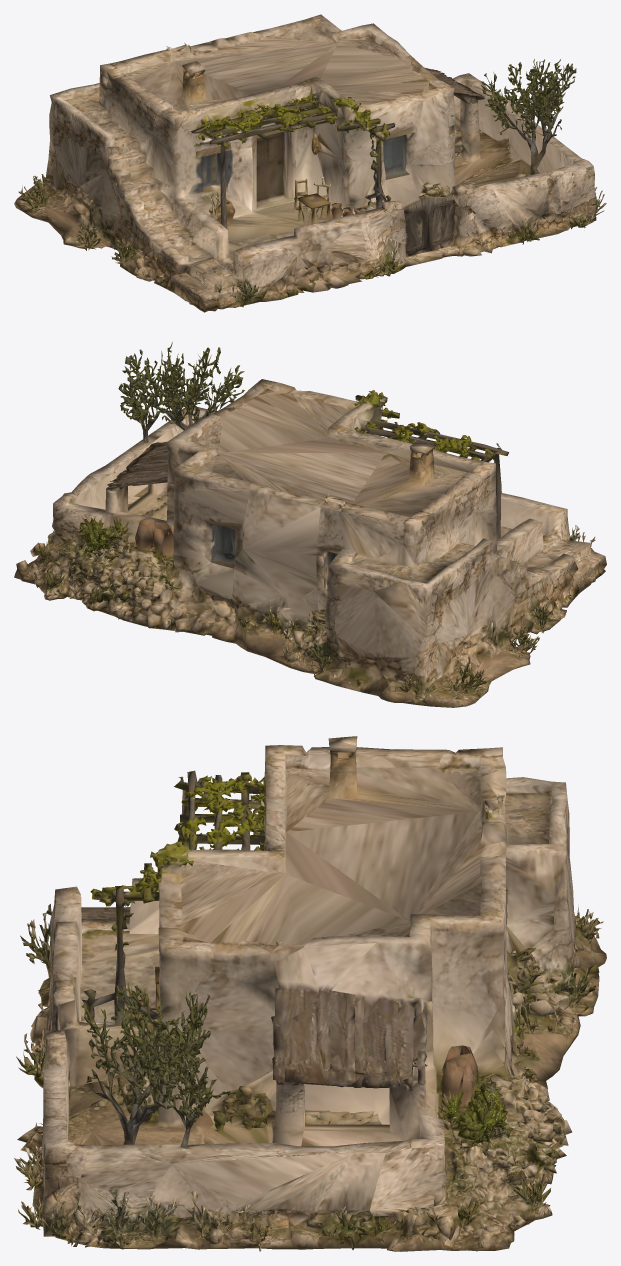
File: Olive_Grove_Cottage.glb
3 views of the same model, one above another, from view 1: azimuth 30°, elevation 25°; view 2: azimuth 150°, elevation 25°; view 3: azimuth 270°, elevation 25° (orthographic). The views are drawn at different scales.
Visible parts, largest first — view 1: Olive_Grove_Cottage; view 2: Olive_Grove_Cottage; view 3: Olive_Grove_Cottage.
Part boxes in pixels (box(x1,y1,x2,y2)): Olive_Grove_Cottage: box(14, 14, 606, 312); Olive_Grove_Cottage: box(14, 342, 606, 707); Olive_Grove_Cottage: box(14, 736, 606, 1251).
Bounding box in the file's own units: 1.81 × 0.6343 × 1.32.
1 material, 1 textured.
